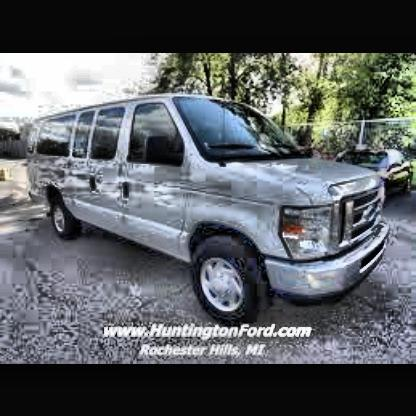Ford E-Series Wagon Van 2012: (19, 86, 399, 328)
